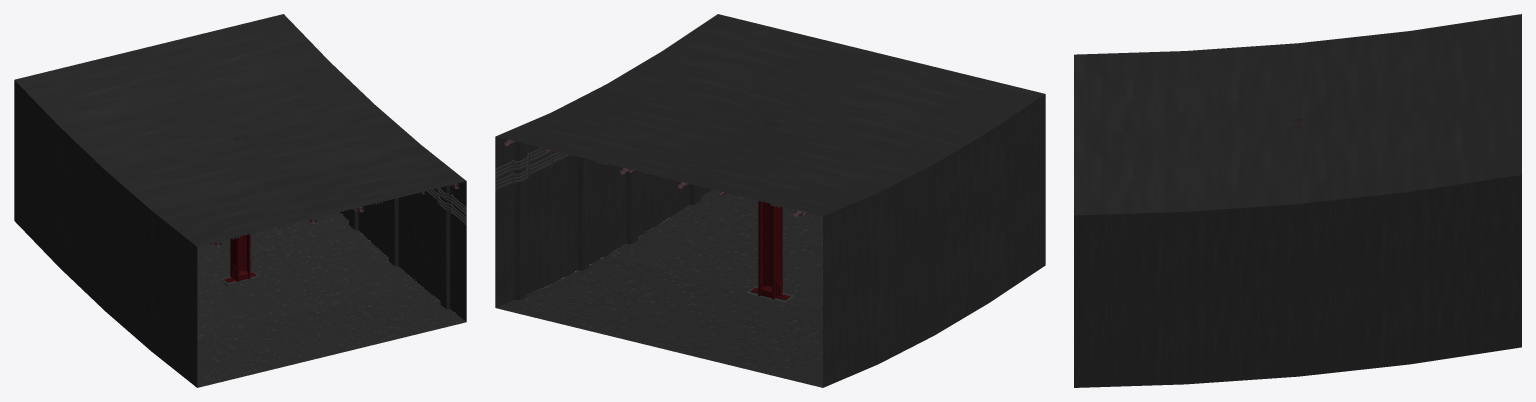
File: SW_ENV_RailTunnel_Riser_A_Double_10m_FF.fbx
3 views of the same model, side by side, from view 1: azimuth 30°, elevation 25°; view 2: azimuth 150°, elevation 25°; view 3: azimuth 270°, elevation 25° (orthographic). The views are drawn at different scales.
Parts seen in each view (by area): view 1: SW_ENV_RailTunnel_Riser_A_Double_10m_FF; view 2: SW_ENV_RailTunnel_Riser_A_Double_10m_FF; view 3: SW_ENV_RailTunnel_Riser_A_Double_10m_FF.
Part boxes in pixels (box(x1,y1,x2,y2)): SW_ENV_RailTunnel_Riser_A_Double_10m_FF: box(14, 14, 466, 387); SW_ENV_RailTunnel_Riser_A_Double_10m_FF: box(495, 14, 1045, 387); SW_ENV_RailTunnel_Riser_A_Double_10m_FF: box(1074, 14, 1521, 387).
Size of the model in its own units: 8.5 by 5.25 by 10.
